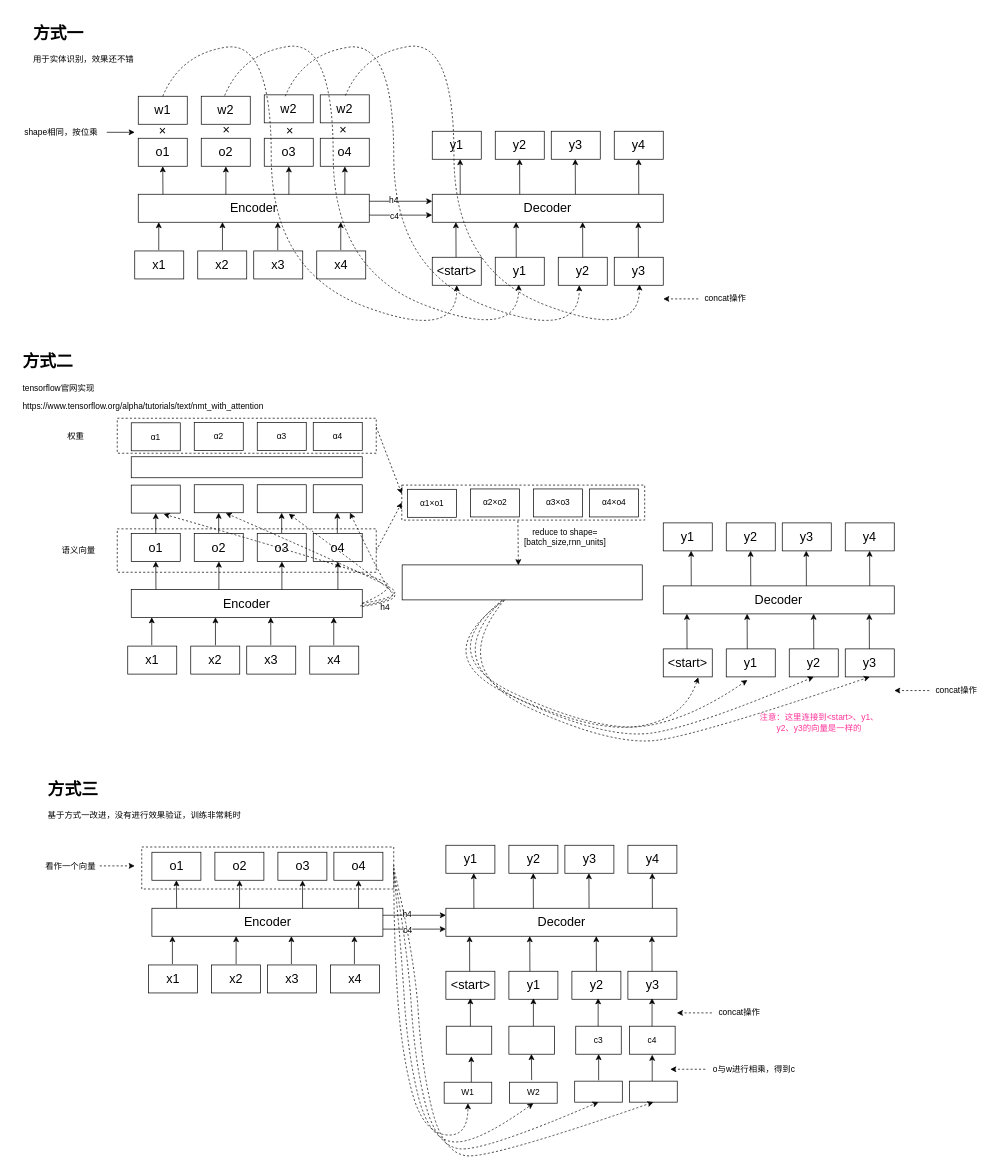
Some shapes in this 1000 by 1168 pixel diagram are drawn without their labels. Here are the shapes that lost their labels. From the top down, the centre of each, then its label:
At (246,467): "softmax".
At (155,498): "score1".
At (218,498): "score2".
At (281,498): "score3".
At (337,498): "score4".
At (521,582): "context vector".
At (469,1040): "c1".
At (531,1040): "c2".
At (598,1091): "W3".
At (653,1091): "W4".
